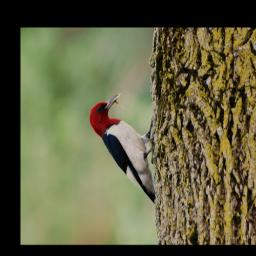Woodpecker: (89, 94, 155, 203)
